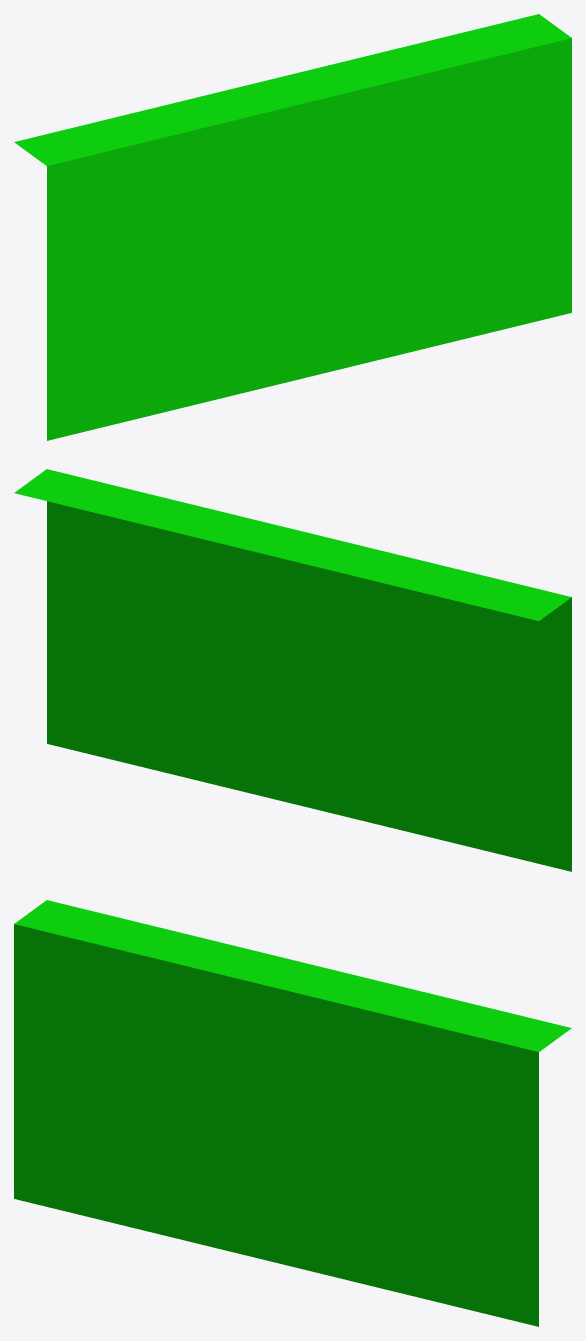
File: MESH_room_frontWall.fbx
3 views of the same model, one above another, from view 1: azimuth 30°, elevation 25°; view 2: azimuth 150°, elevation 25°; view 3: azimuth 330°, elevation 25° (orthographic).
Visible parts, largest first — view 1: MESH_room_frontWall; view 2: MESH_room_frontWall; view 3: MESH_room_frontWall.
Part boxes in pixels (x1,y1,x2,y2): MESH_room_frontWall: (14,14,571,440); MESH_room_frontWall: (14,469,571,871); MESH_room_frontWall: (14,900,571,1326).
Size of the model in its own units: 200 by 100 by 21.69.
